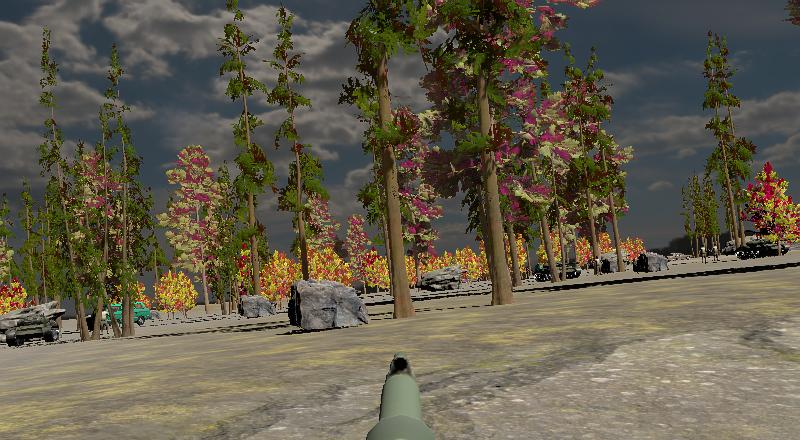Tank: (6, 311, 59, 348), (532, 260, 583, 282), (736, 236, 774, 259)
car: (104, 297, 151, 327)
